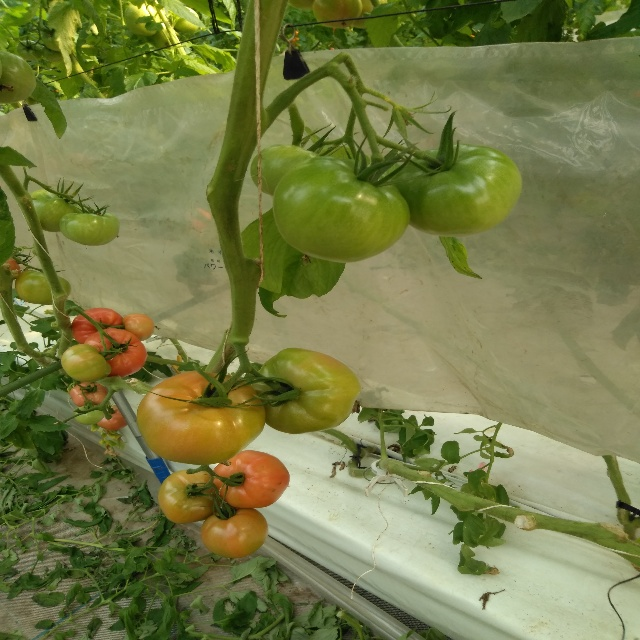b_fully_ripened: (83, 328, 148, 378), (71, 307, 124, 344)
b_green: (271, 155, 411, 263), (389, 143, 523, 237), (250, 347, 361, 434), (250, 144, 321, 195), (30, 189, 91, 232), (60, 212, 120, 246), (0, 50, 36, 103), (15, 270, 71, 304), (61, 344, 111, 382), (74, 405, 106, 425)
b_half_ripened: (136, 370, 266, 465), (212, 450, 291, 508), (158, 469, 223, 523), (201, 507, 268, 558), (312, 0, 363, 29), (70, 382, 107, 407), (122, 313, 155, 341), (97, 405, 128, 430)
